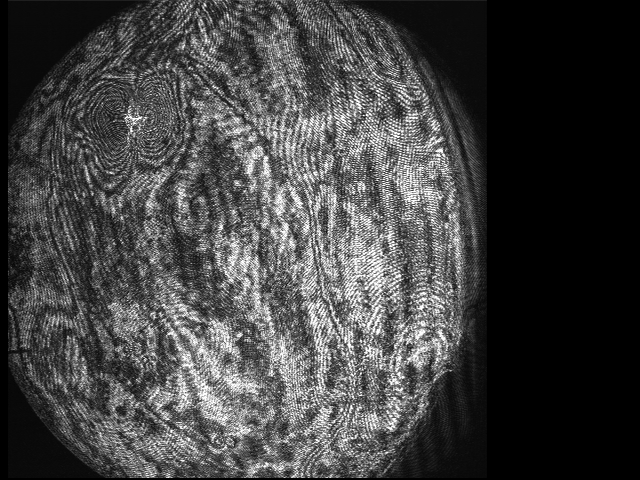plume: (85, 70, 184, 187)
